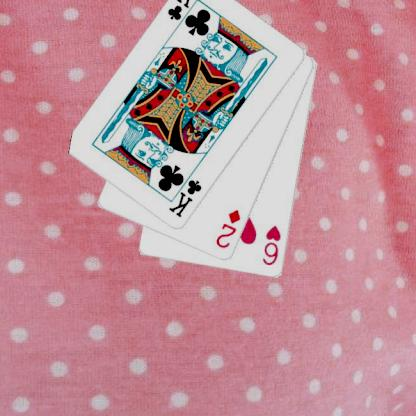2D: (213, 207, 242, 250)
6H: (260, 223, 283, 268)
KC: (166, 168, 203, 219), (164, 0, 201, 31)
